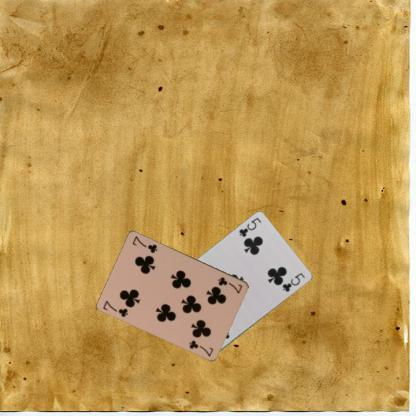5c: (236, 216, 262, 238)
7c: (215, 274, 244, 294), (101, 298, 130, 318)
